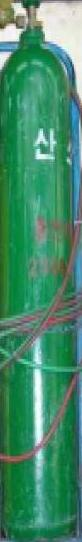cylinder: (0, 1, 82, 542)
